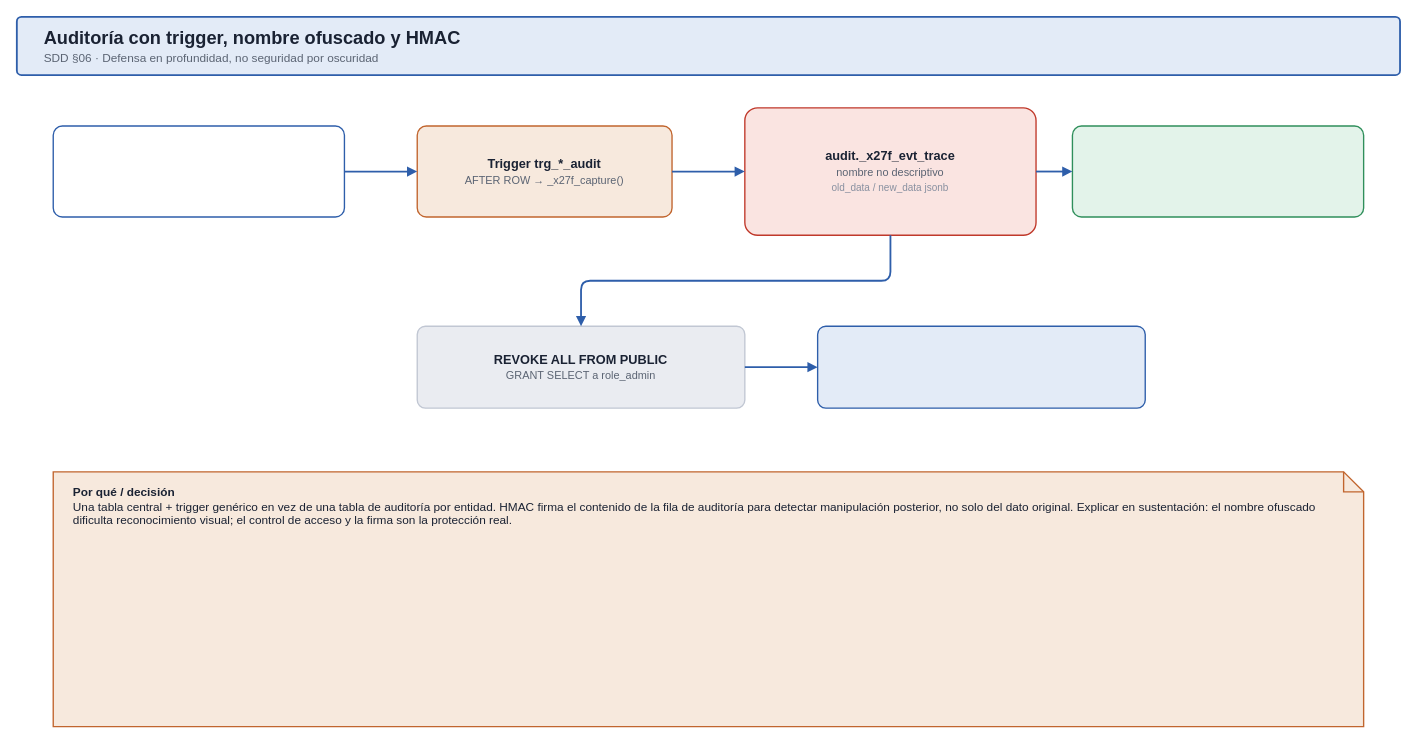
Image size: 1416x743. Some labels were removed from this diagram. The shapes that lost their labels are listed below. From the top down, each one's centre as x and y in pixels, then its label:
the point at 198,171: products / orders / coupons INSERT UPDATE DELETE
the point at 1217,171: hmac_signature SHA-256 pgcrypto · clave servidor
the point at 981,366: GET /api/v1/admin/audit función SECURITY DEFINER
